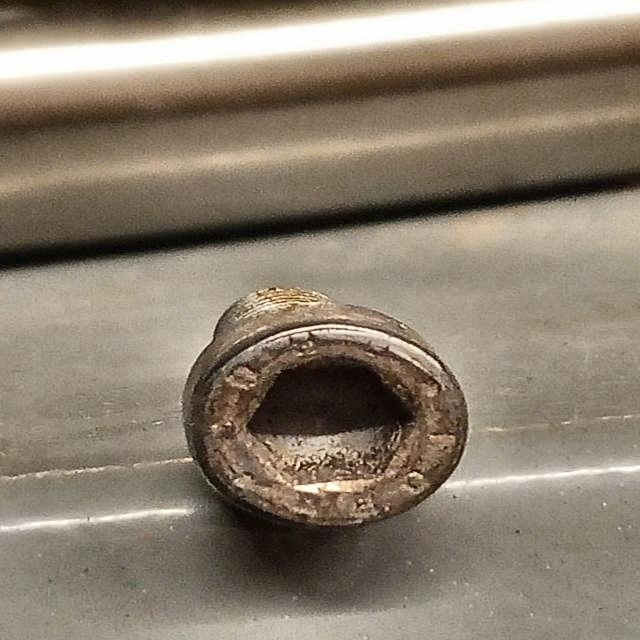allen: (181, 308, 468, 526)
